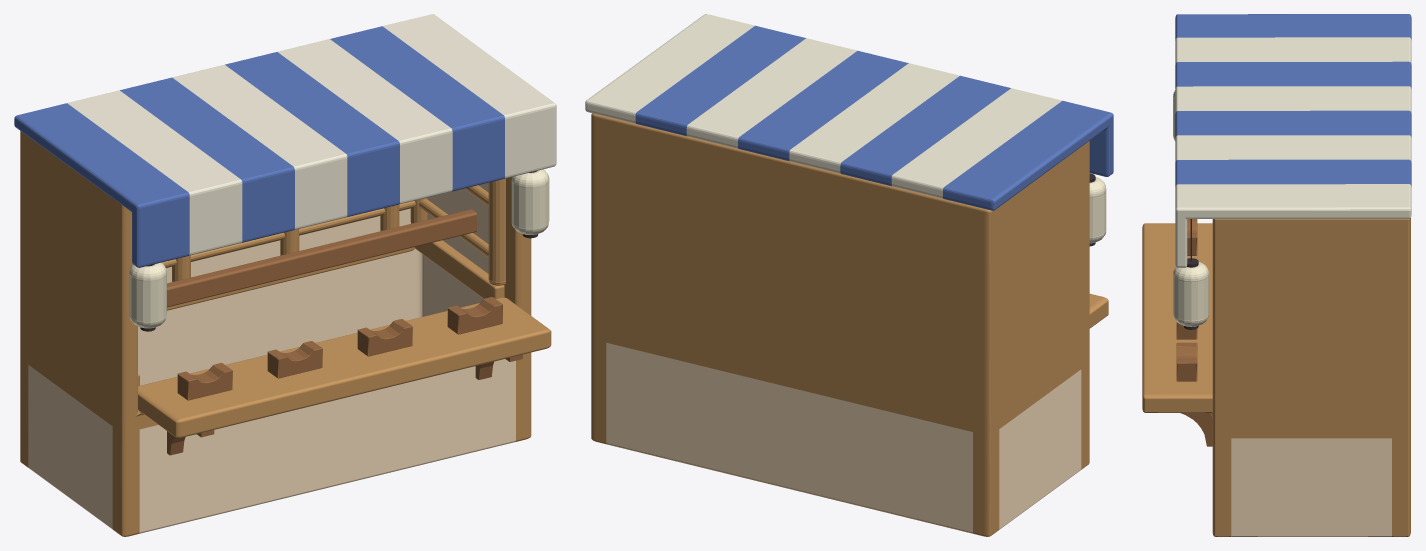
Rendered from BoothRevised.fbx.
3 renders of one model, left to right at view 1: azimuth 30°, elevation 25°; view 2: azimuth 150°, elevation 25°; view 3: azimuth 270°, elevation 25°, orthographic. The views are drawn at different scales.
Visible parts, largest first — view 1: BoothRevised; view 2: BoothRevised; view 3: BoothRevised.
Part boxes in pixels (x1,y1,x2,y2): BoothRevised: (14,14,556,536); BoothRevised: (585,14,1113,536); BoothRevised: (1142,14,1411,536).
Size of the model in its own units: 930 by 737 by 541.
